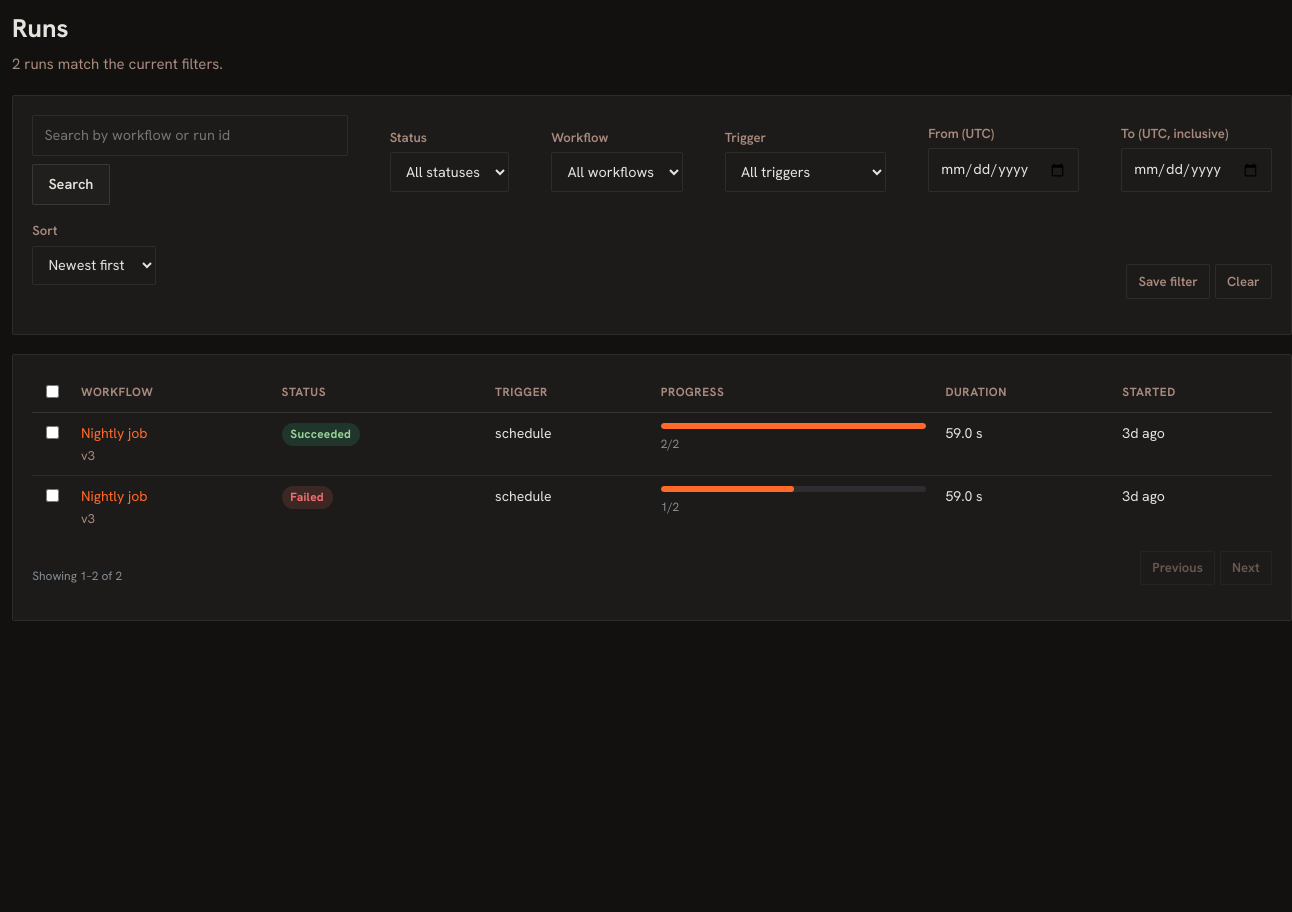
it: RunsPage › saves a filter to the server and renders it as a chip
Select "failed" in the dropdown labelled "Status": [449, 172] box [390,152,509,192]
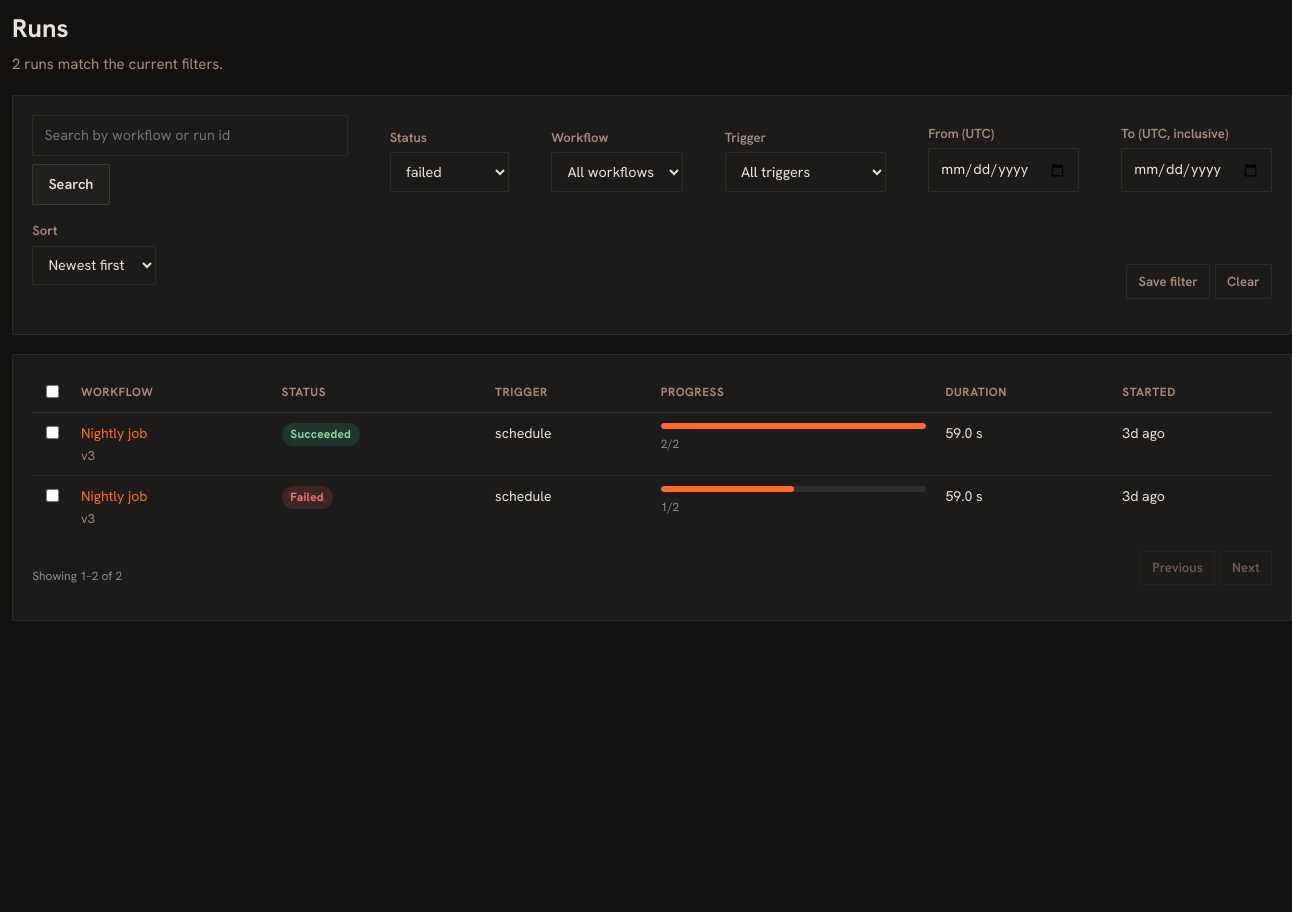
Click the button "Save filter": [1168, 282] box [1126,264,1210,299]
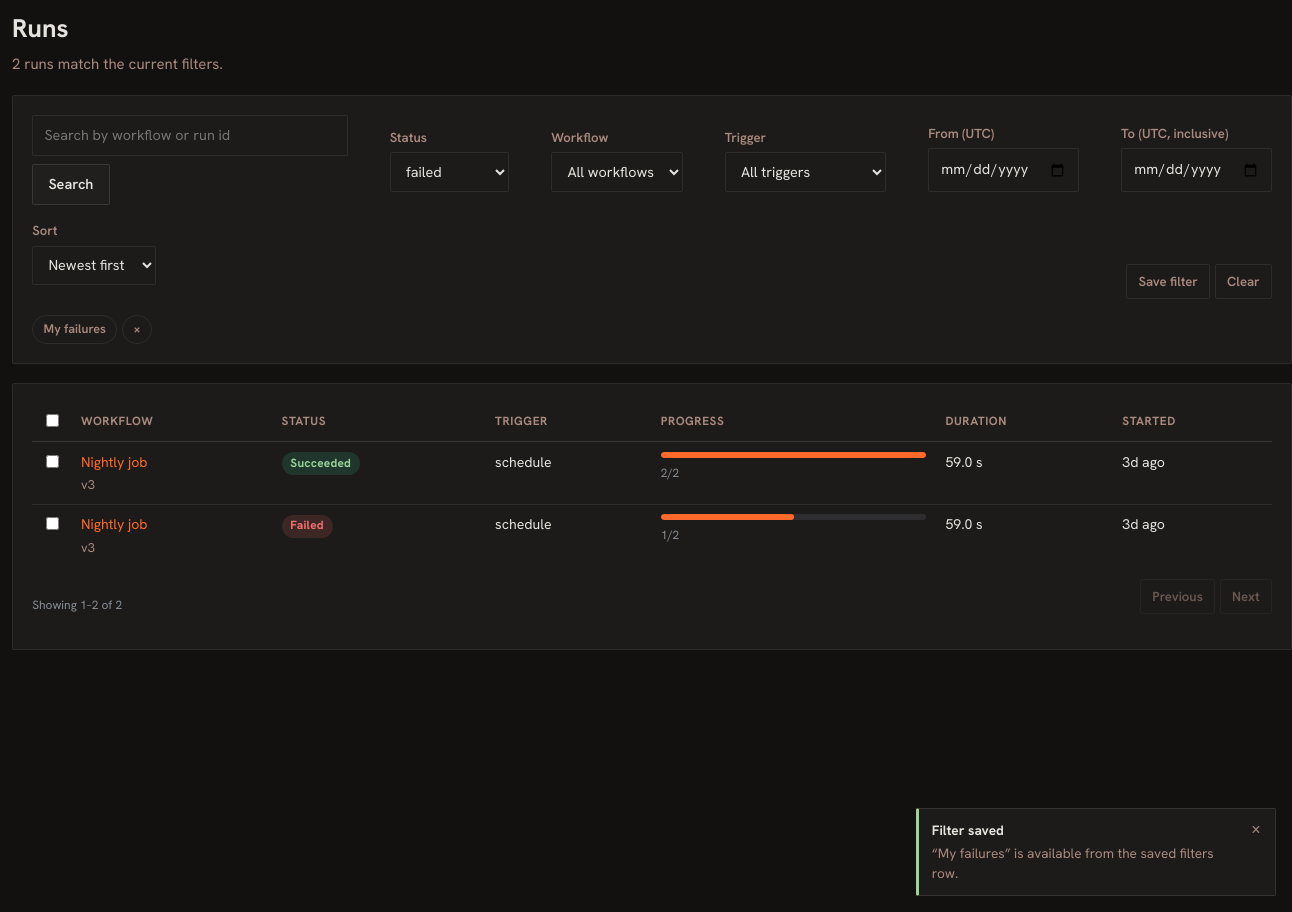
Now the button "My failures" is shown, box [32,315,117,344]
